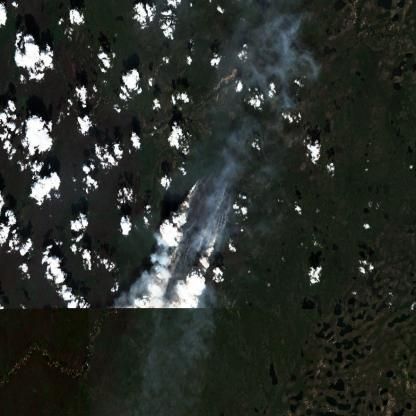fire: (134, 158, 237, 306)
